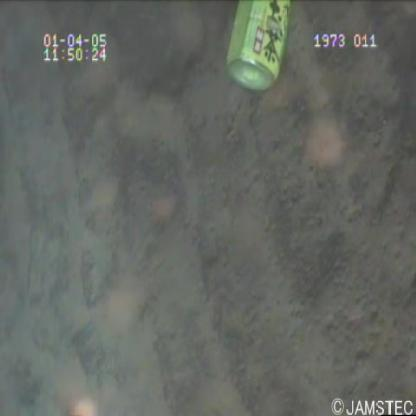Rác: (221, 2, 295, 100)
